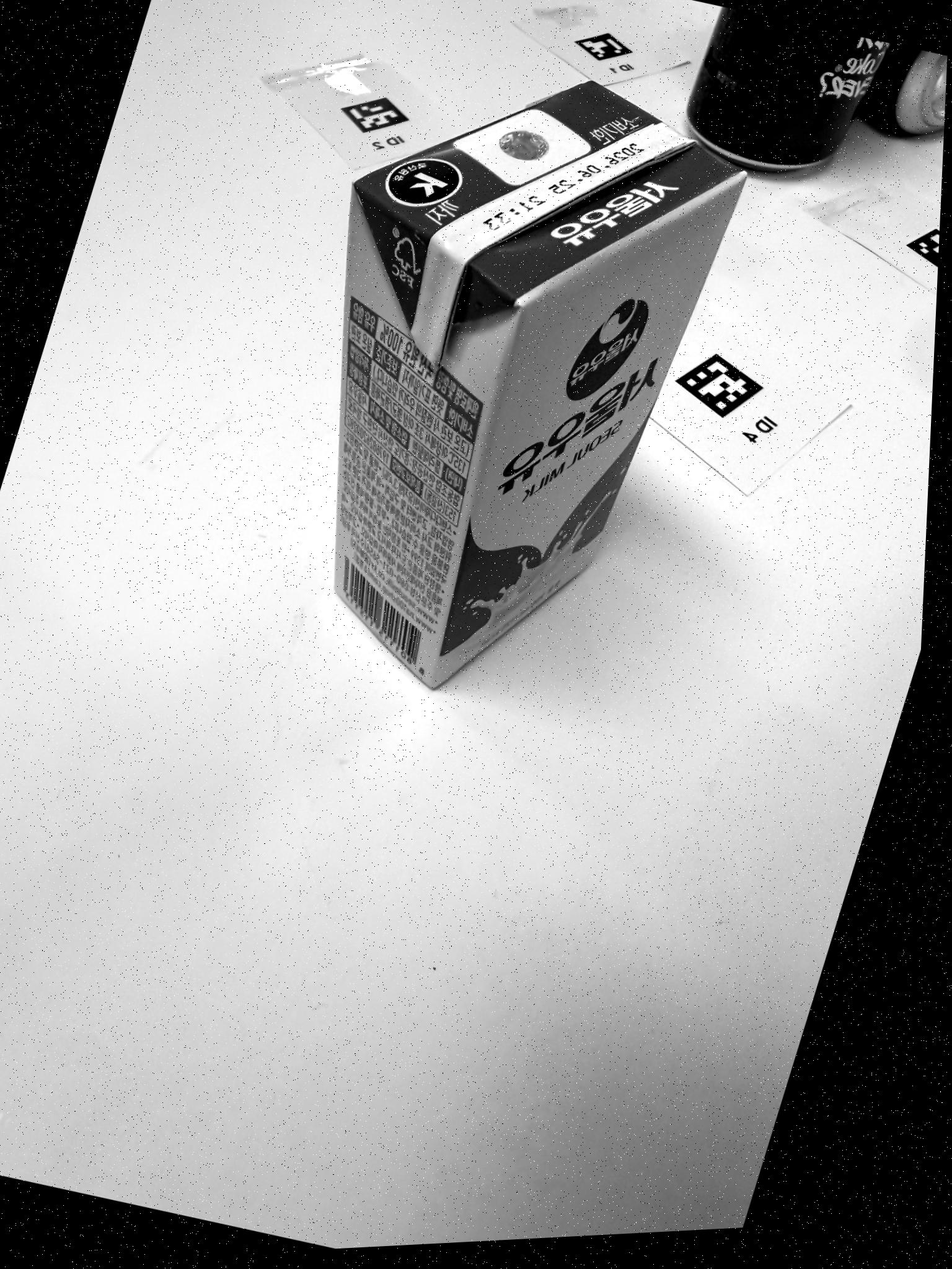milk_green: (334, 84, 745, 686)
